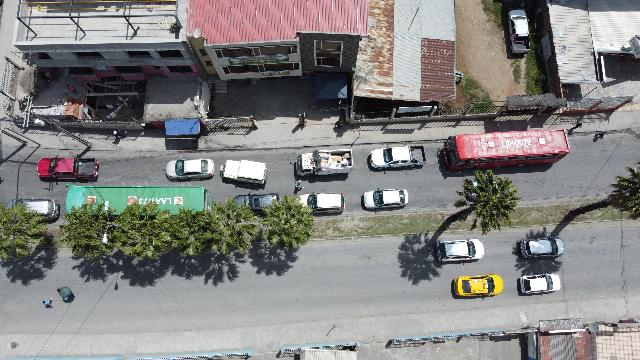Vehiculo: (296, 149, 352, 177), (38, 156, 98, 182), (5, 197, 60, 223), (368, 146, 426, 170), (220, 160, 268, 185), (452, 274, 502, 298), (166, 158, 214, 182), (436, 239, 484, 263), (231, 193, 281, 215), (361, 188, 409, 210), (296, 193, 344, 215), (508, 10, 530, 55), (520, 237, 564, 259), (464, 180, 508, 202), (518, 273, 560, 295)
